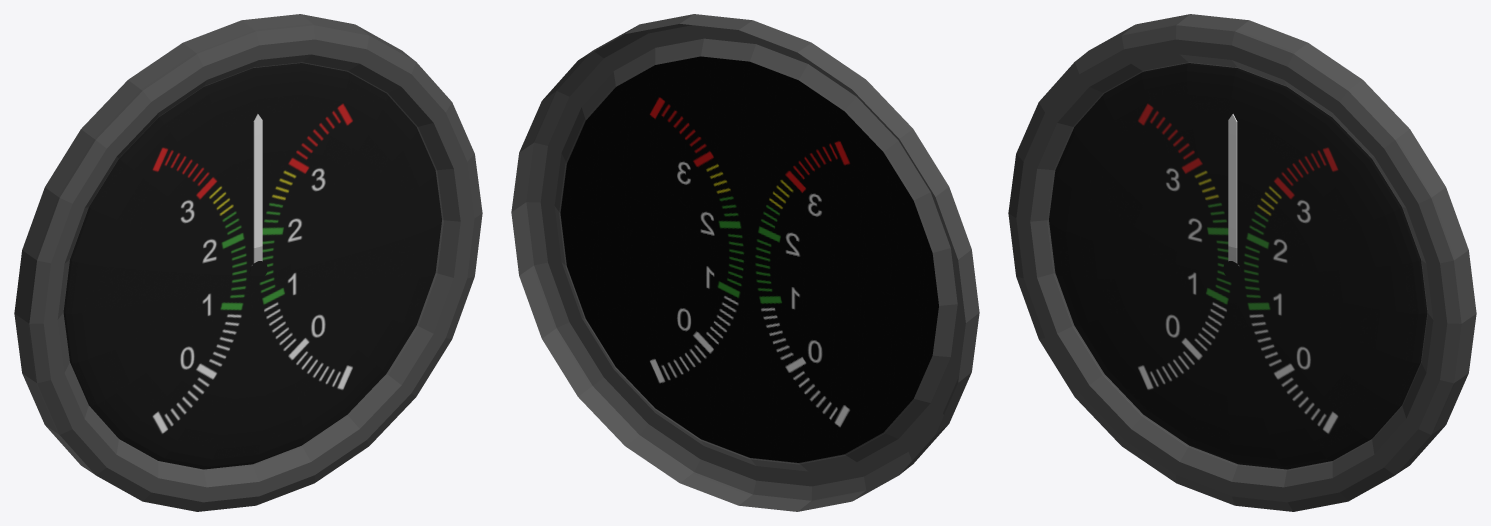
The model's file is Gauge_0-3Arcs.obj.
3 views of the same model, side by side, from view 1: azimuth 30°, elevation 25°; view 2: azimuth 150°, elevation 25°; view 3: azimuth 330°, elevation 25° (orthographic).
Visible parts, largest first — view 1: Face, Rim, NeedleMain; view 2: Face, Rim; view 3: Face, Rim, NeedleMain.
Boxes of the visible parts, box(x1,y1,x2,y2) form: Face: box(63, 63, 441, 469); Rim: box(14, 14, 482, 511); NeedleMain: box(253, 114, 262, 247); Face: box(560, 56, 938, 462); Rim: box(511, 14, 979, 511); Face: box(1049, 63, 1427, 469); Rim: box(1008, 14, 1476, 511); NeedleMain: box(1228, 114, 1237, 247).
Size of the model in its own units: 0.0822 by 0.0822 by 0.00794.
